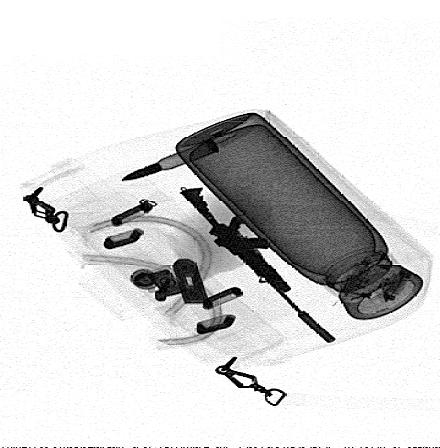Bullet: (118, 139, 220, 183)
Gun: (178, 187, 335, 344)
